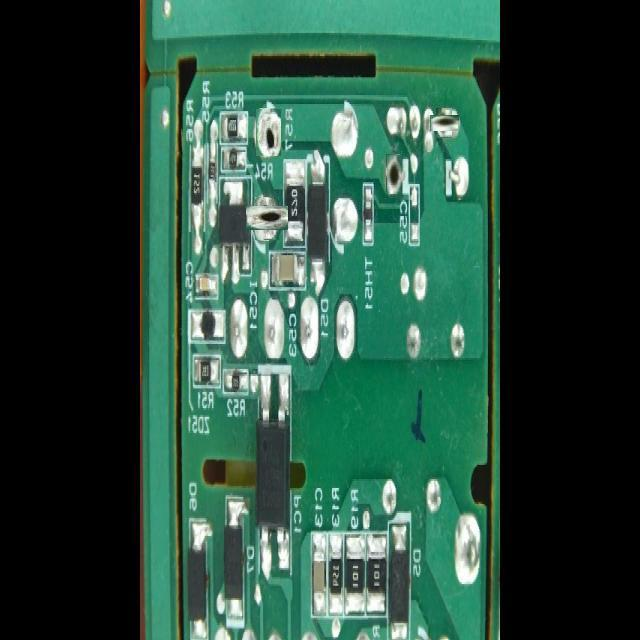damged: (255, 108, 281, 156), (250, 202, 284, 235), (386, 154, 402, 194), (432, 112, 456, 135)
